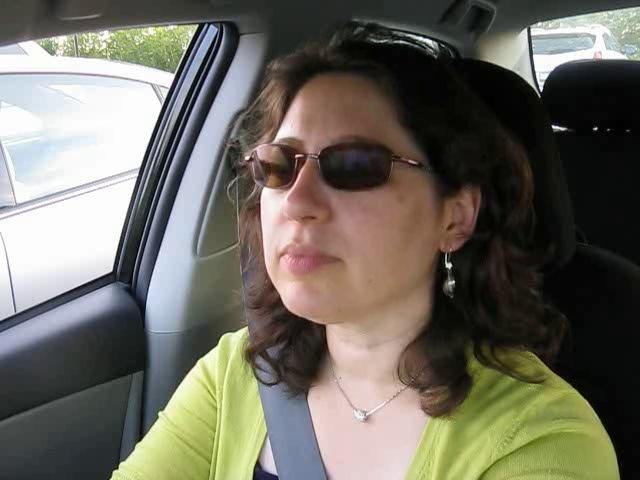no_yawn: (266, 235, 349, 283)
